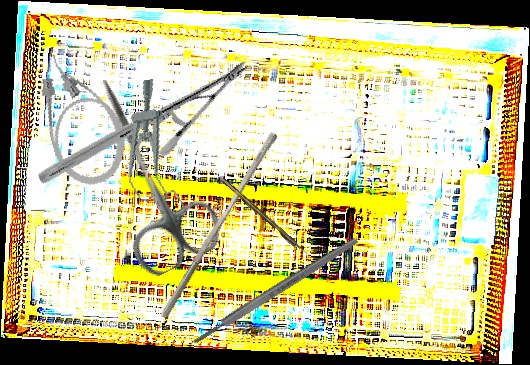Cannula: (30, 42, 134, 193)
Hook Surgical: (220, 176, 310, 259)
Iris Scissors: (59, 61, 231, 282)
Needle Holder: (35, 0, 252, 244)
Pusher: (159, 127, 279, 324)
Scalpel Handle: (191, 235, 360, 347)
Speculum: (112, 77, 189, 227)
